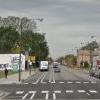Crosswalk: (24, 75, 93, 99)
